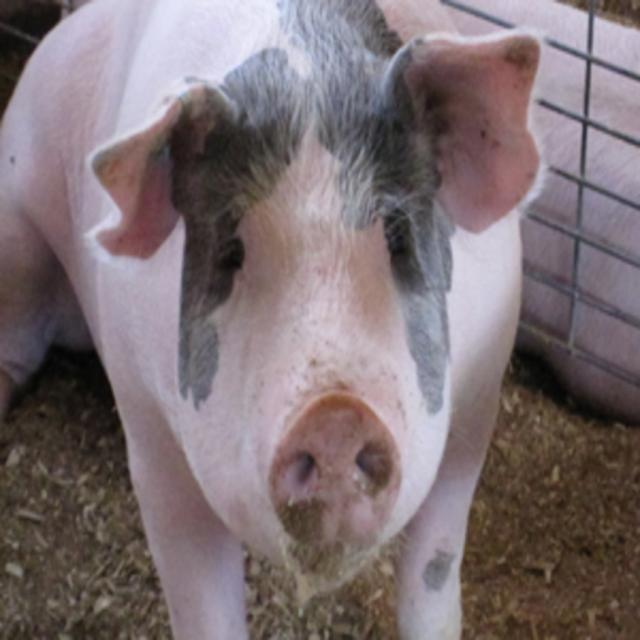Pig: (0, 0, 553, 637)
